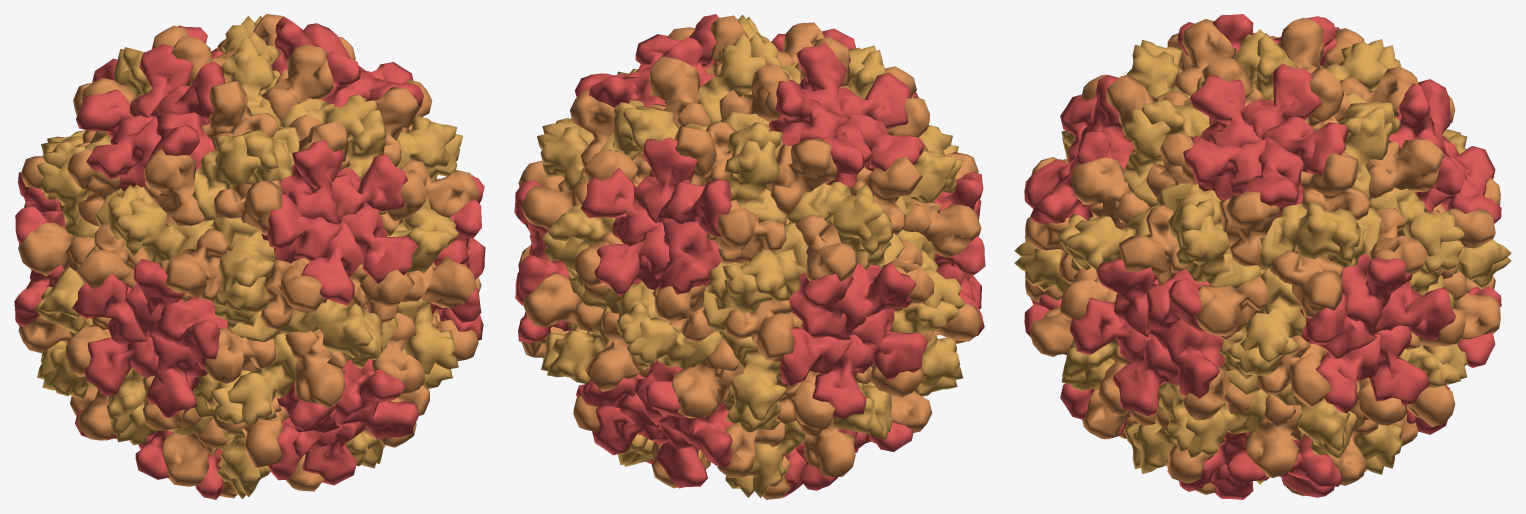
The model's file is 2TBV_lowest.glb.
3 renders of one model, left to right at view 1: azimuth 30°, elevation 25°; view 2: azimuth 150°, elevation 25°; view 3: azimuth 270°, elevation 25°, orthographic.
Bounding box in the file's own units: 354 × 354 × 354.
